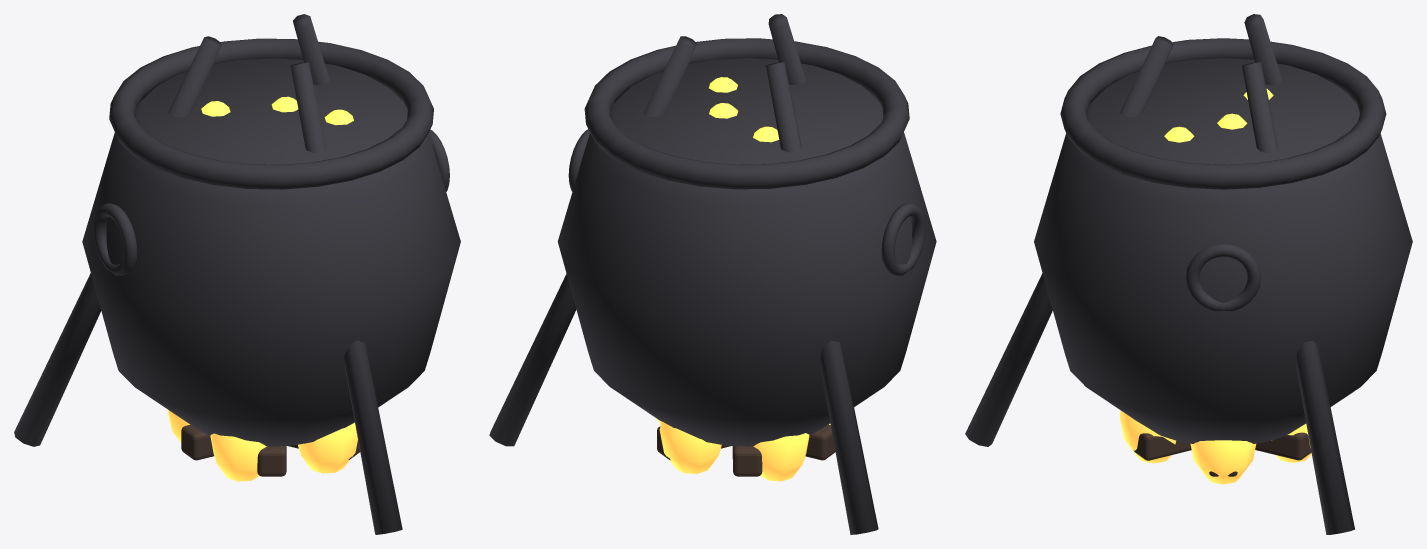
Rendered from cauldron_tripod_fire.glb.
3 renders of one model, left to right at view 1: azimuth 30°, elevation 25°; view 2: azimuth 150°, elevation 25°; view 3: azimuth 270°, elevation 25°, orthographic.
Parts seen in each view (by area): view 1: GD_cauldron_tripod_fire__m0, GD_cauldron_tripod_fire__m1, GD_cauldron_tripod_fire__m2, GD_cauldron_tripod_fire__m3; view 2: GD_cauldron_tripod_fire__m0, GD_cauldron_tripod_fire__m1, GD_cauldron_tripod_fire__m2, GD_cauldron_tripod_fire__m3; view 3: GD_cauldron_tripod_fire__m0, GD_cauldron_tripod_fire__m1, GD_cauldron_tripod_fire__m2, GD_cauldron_tripod_fire__m3.
Boxes of the visible parts, x1,y1,x2,y2 form: GD_cauldron_tripod_fire__m0: (14, 14, 460, 534); GD_cauldron_tripod_fire__m1: (167, 409, 357, 481); GD_cauldron_tripod_fire__m2: (181, 424, 360, 476); GD_cauldron_tripod_fire__m3: (201, 96, 353, 125); GD_cauldron_tripod_fire__m0: (489, 14, 936, 534); GD_cauldron_tripod_fire__m1: (656, 418, 830, 481); GD_cauldron_tripod_fire__m2: (657, 424, 835, 476); GD_cauldron_tripod_fire__m3: (709, 77, 779, 142); GD_cauldron_tripod_fire__m0: (965, 14, 1412, 534); GD_cauldron_tripod_fire__m1: (1119, 410, 1311, 484); GD_cauldron_tripod_fire__m2: (1133, 432, 1311, 476); GD_cauldron_tripod_fire__m3: (1164, 88, 1273, 142).
Size of the model in its own units: 0.9222 by 0.9328 by 0.9145.
